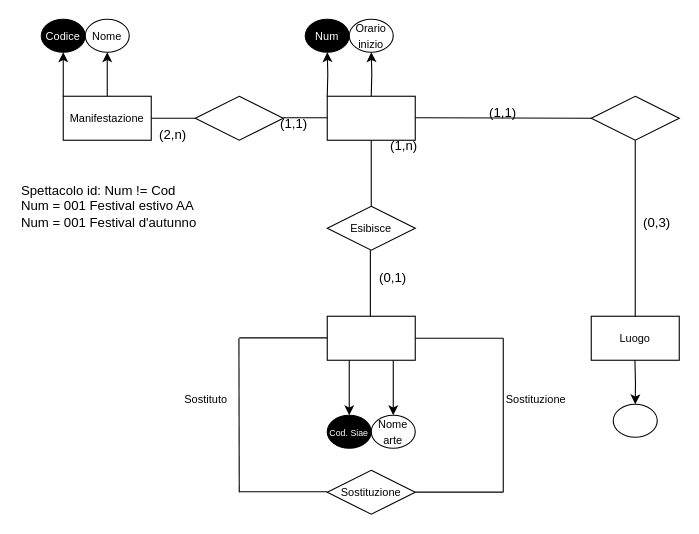
This 699x534 diagram has some shape labels left out. Here are the shapes that lost their labels. From the top down, the centre of each, then its label:
At (238,117): "Consiste".
At (370,117): "Spettacolo".
At (634,117): "Ospita".
At (370,337): "Artista".
At (634,420): "Data".
